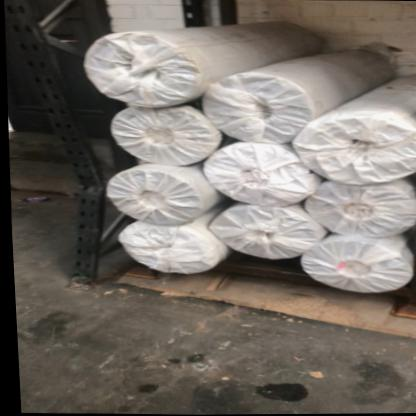vertical_damage: (43, 129, 120, 228)
